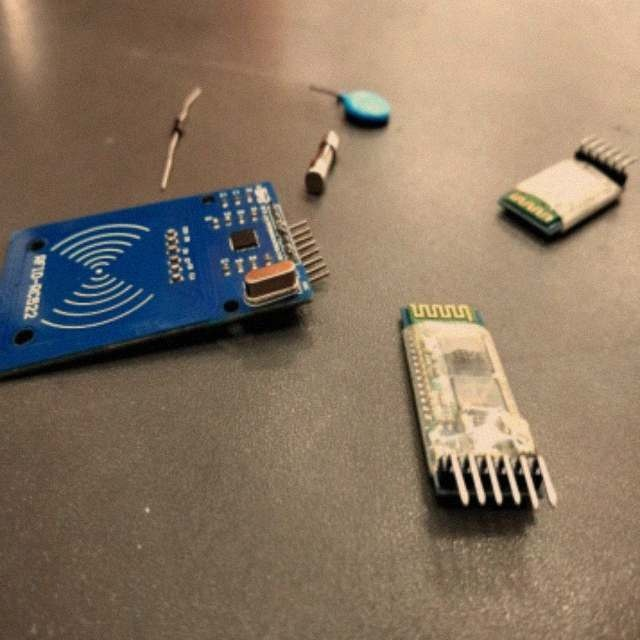capacitor: (344, 91, 390, 116)
